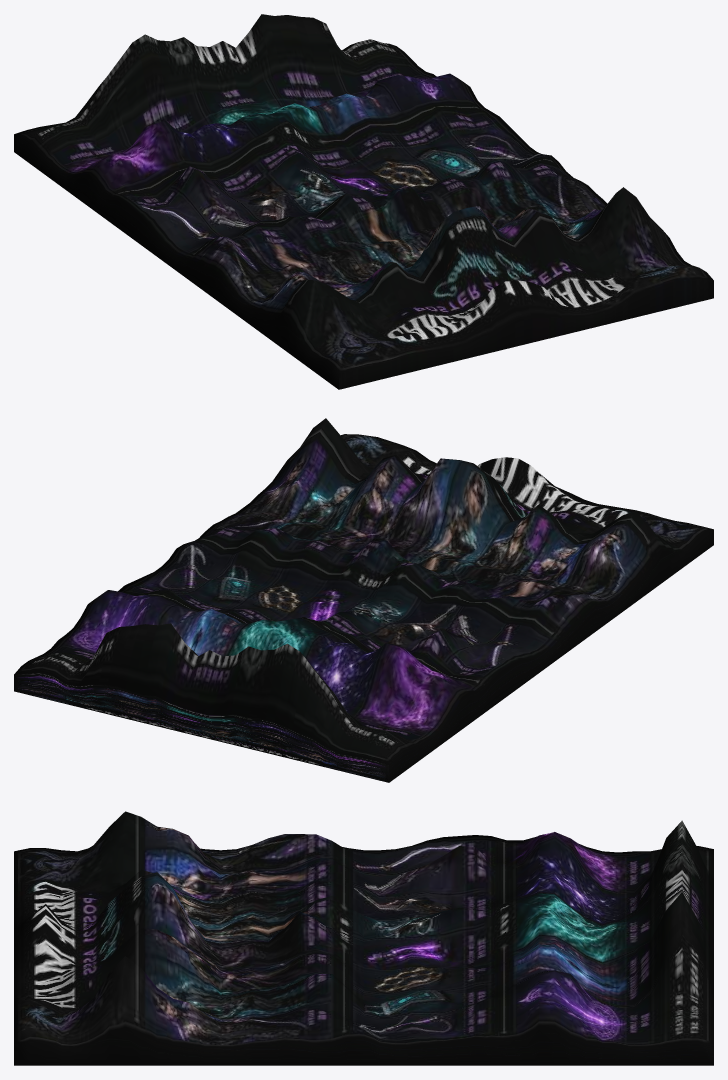
Rendered from CAREER_14_Poster_21.glb.
3 views of the same model, one above another, from view 1: azimuth 30°, elevation 25°; view 2: azimuth 150°, elevation 25°; view 3: azimuth 270°, elevation 25° (orthographic). The views are drawn at different scales.
Visible parts, largest first — view 1: CAREER_14_Poster_21; view 2: CAREER_14_Poster_21; view 3: CAREER_14_Poster_21.
Boxes of the visible parts, x1,y1,x2,y2 form: CAREER_14_Poster_21: (14,14,713,389); CAREER_14_Poster_21: (14,418,713,782); CAREER_14_Poster_21: (14,811,713,1065).
Size of the model in its own units: 2 by 0.51 by 3.
1 material, 1 textured.
